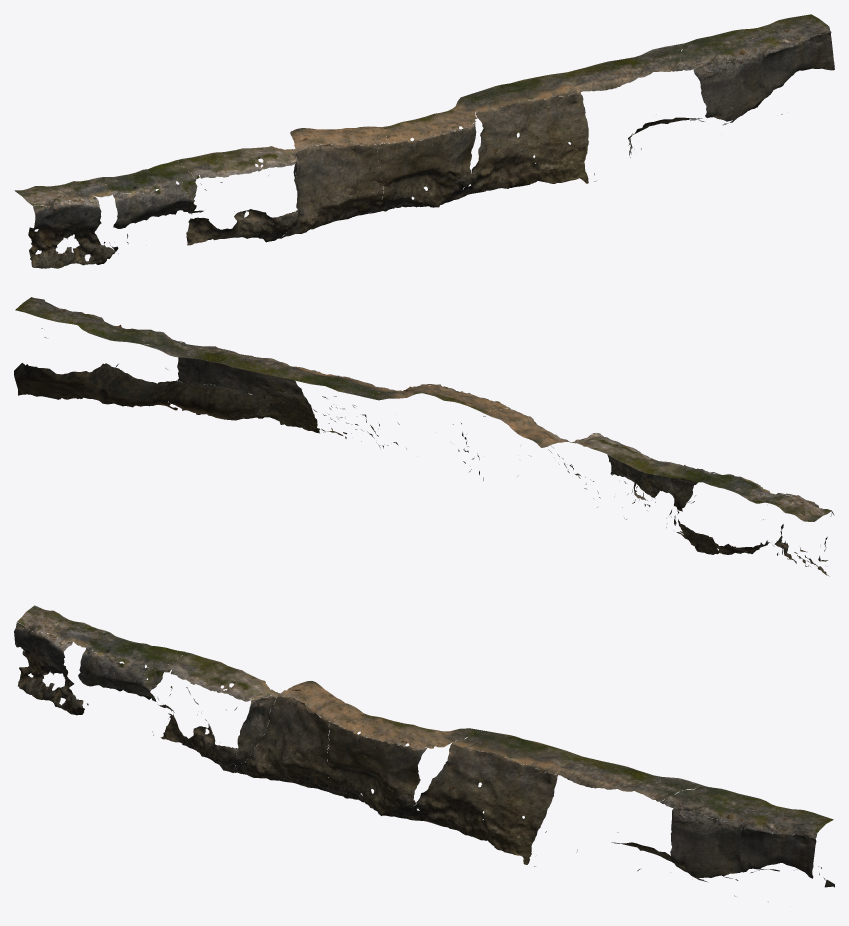
File: ph_coastal_cliff_01.glb
3 views of the same model, one above another, from view 1: azimuth 30°, elevation 25°; view 2: azimuth 150°, elevation 25°; view 3: azimuth 330°, elevation 25° (orthographic). The views are drawn at different scales.
Visible parts, largest first — view 1: Hero; view 2: Hero; view 3: Hero.
Boxes of the visible parts, <box> form: Hero: <box>14,14,834,268</box>; Hero: <box>14,297,834,576</box>; Hero: <box>14,605,834,896</box>.
Size of the model in its own units: 0.9991 by 0.1088 by 0.1172.
Materials: 1 (1 with a texture image).
